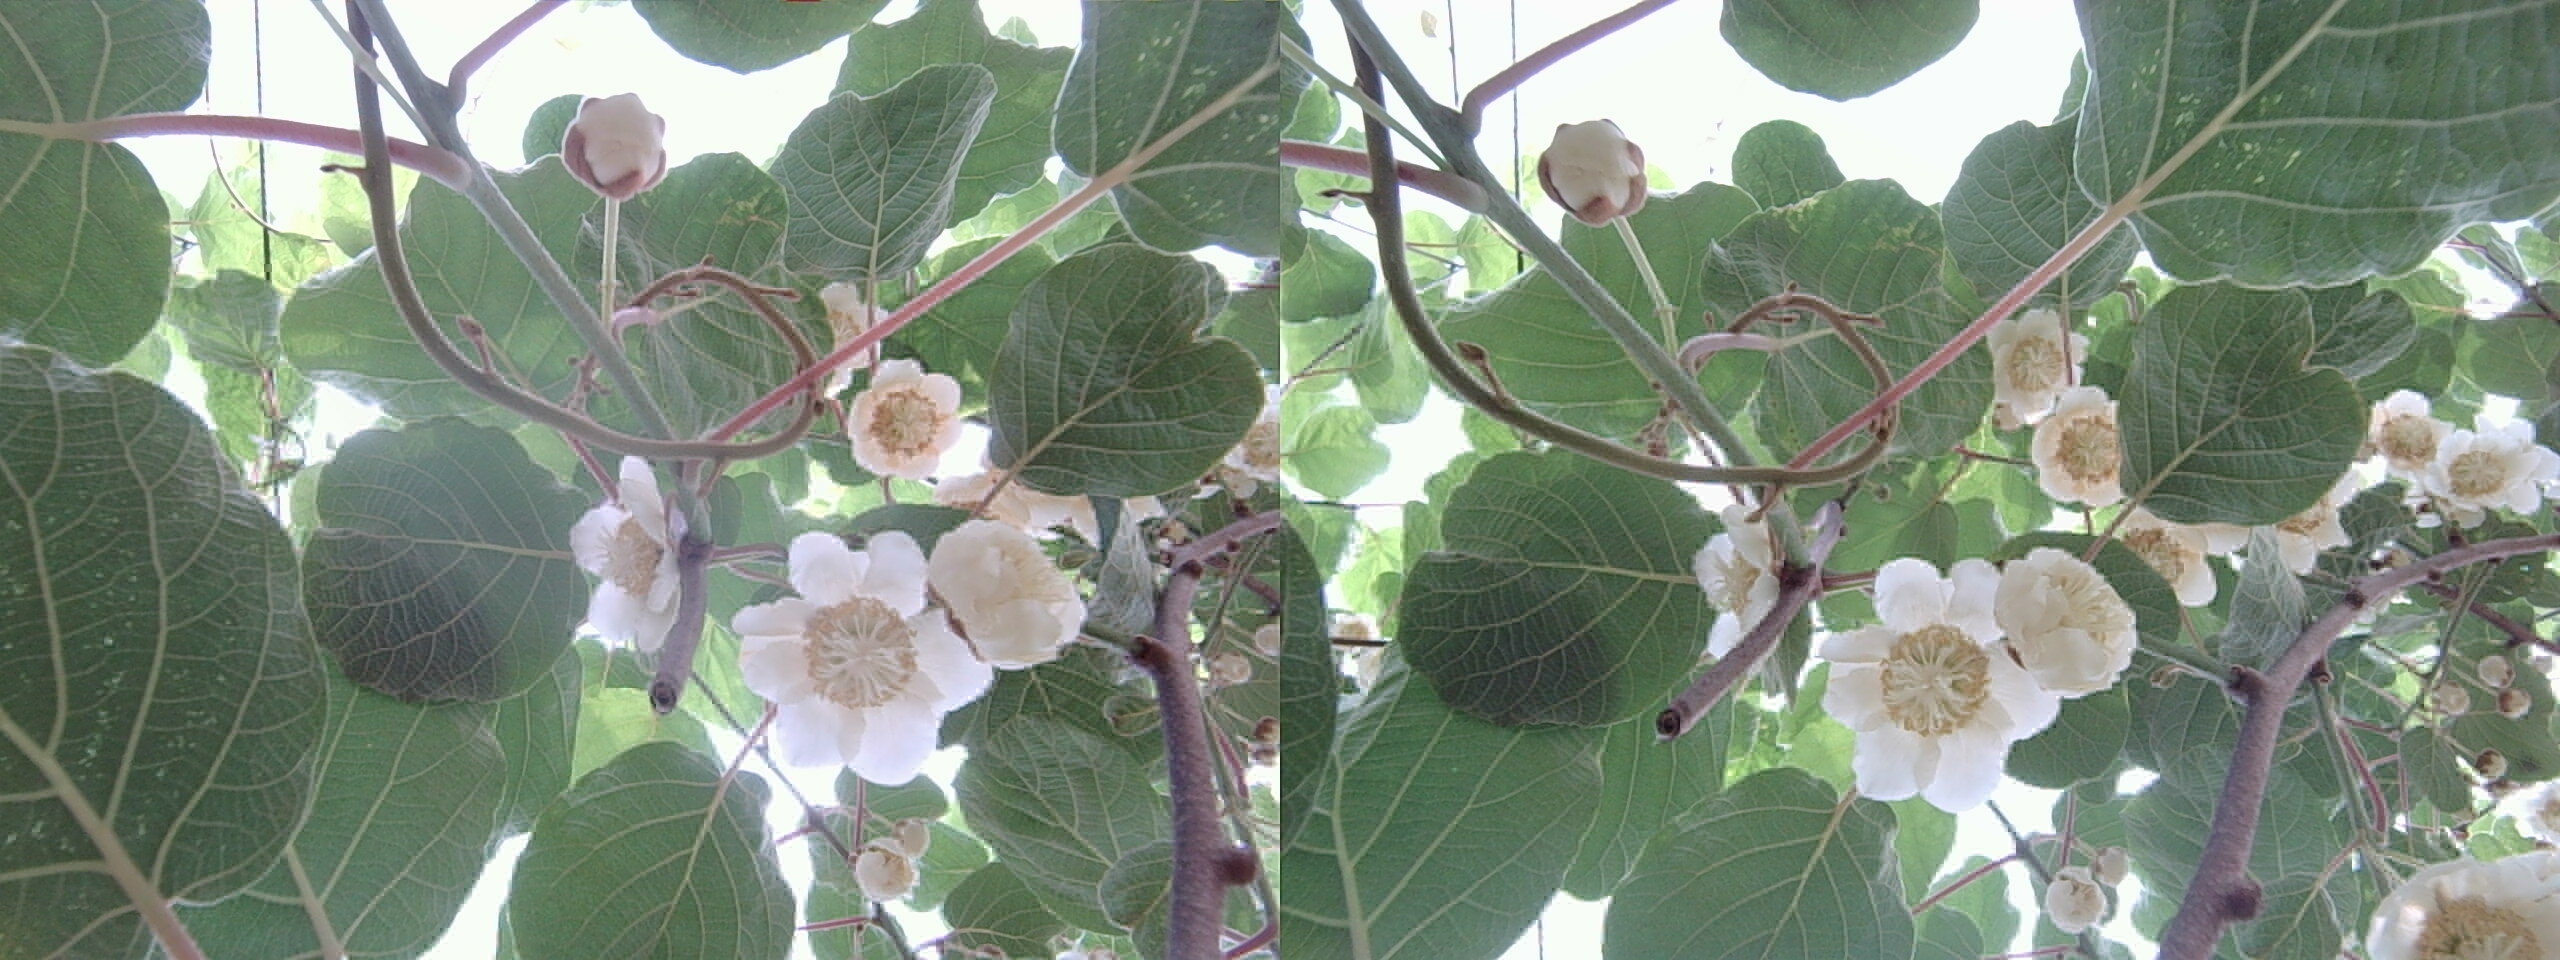flower: (713, 522, 1006, 789), (1807, 550, 2078, 821), (558, 485, 705, 691), (2349, 397, 2558, 531), (1977, 549, 2132, 696), (932, 522, 1074, 666), (829, 354, 970, 485), (2007, 387, 2134, 506), (545, 91, 669, 204)
